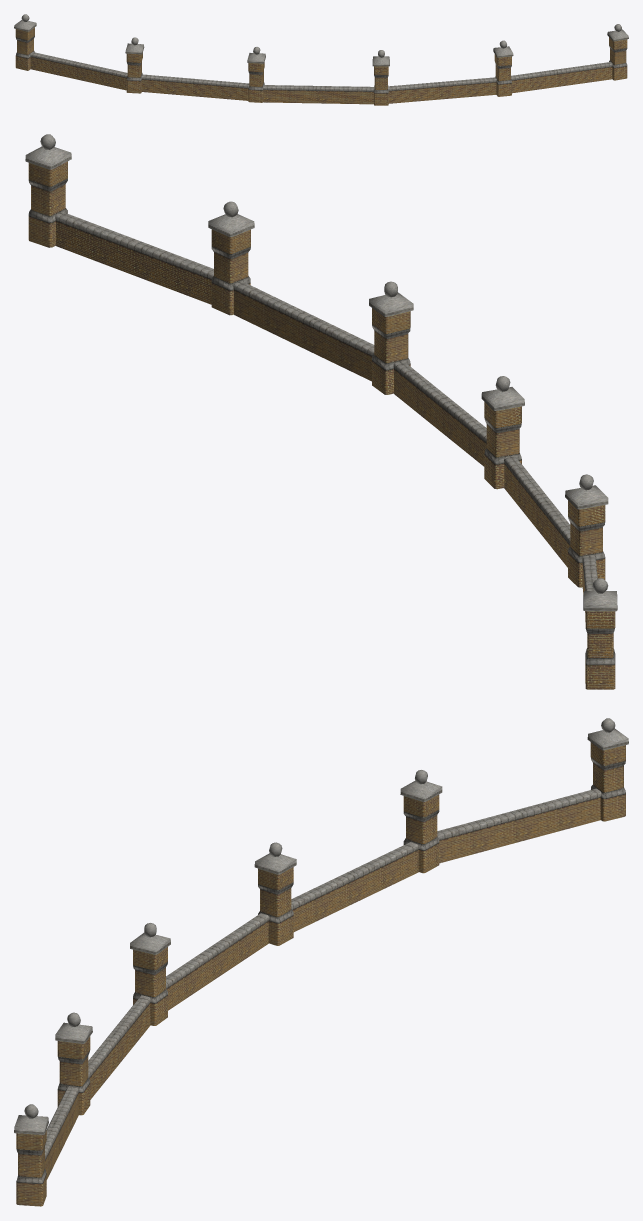
Rendered from Walls_Entrance_Left_COMBO.fbx.
3 renders of one model, top to bottom at view 1: azimuth 30°, elevation 25°; view 2: azimuth 150°, elevation 25°; view 3: azimuth 270°, elevation 25°, orthographic. The views are drawn at different scales.
Visible parts, largest first — view 1: VP_park_fence_post; view 2: VP_park_fence_post; view 3: VP_park_fence_post.
Boxes of the visible parts, box(x1,y1,x2,y2) form: VP_park_fence_post: box(14, 14, 628, 105); VP_park_fence_post: box(25, 134, 617, 689); VP_park_fence_post: box(14, 718, 628, 1206).
Bounding box in the file's own units: 39.89 × 4.43 × 25.78.
